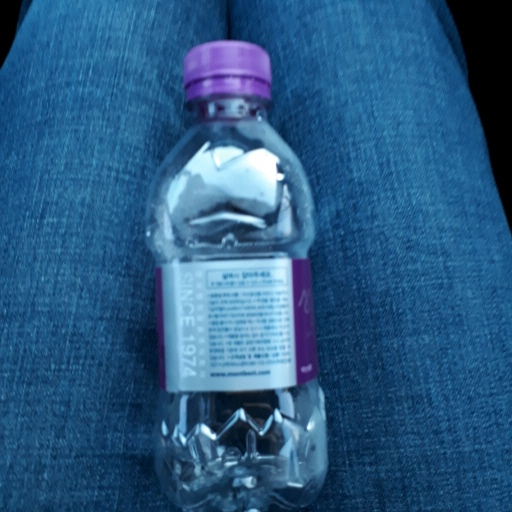Plastic_0: (144, 39, 327, 507)
